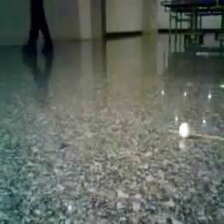w: (178, 120, 193, 139)
